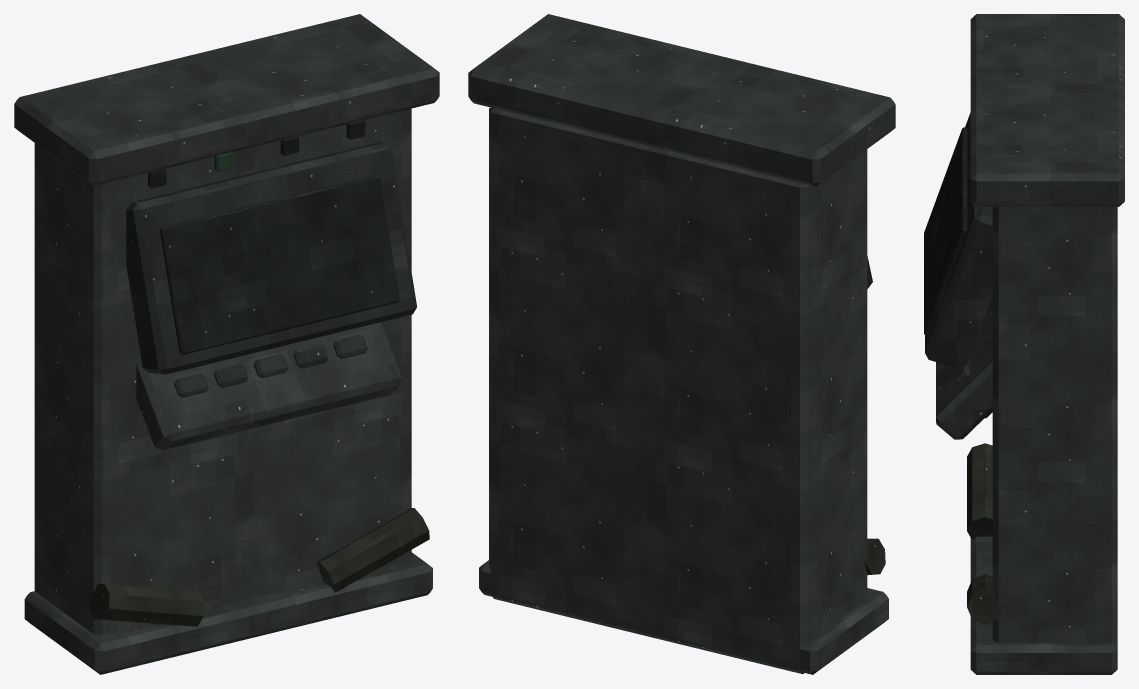
The model's file is wall_console.glb.
3 renders of one model, left to right at view 1: azimuth 30°, elevation 25°; view 2: azimuth 150°, elevation 25°; view 3: azimuth 270°, elevation 25°, orthographic. The views are drawn at different scales.
Visible parts, largest first — view 1: wall_console; view 2: wall_console; view 3: wall_console.
Boxes of the visible parts, <box> form: wall_console: <box>14,14,439,674</box>; wall_console: <box>468,14,895,674</box>; wall_console: <box>924,14,1124,674</box>.
Size of the model in its own units: 1.12 by 1.6 by 0.5753.
Materials: 1 (1 with a texture image).
